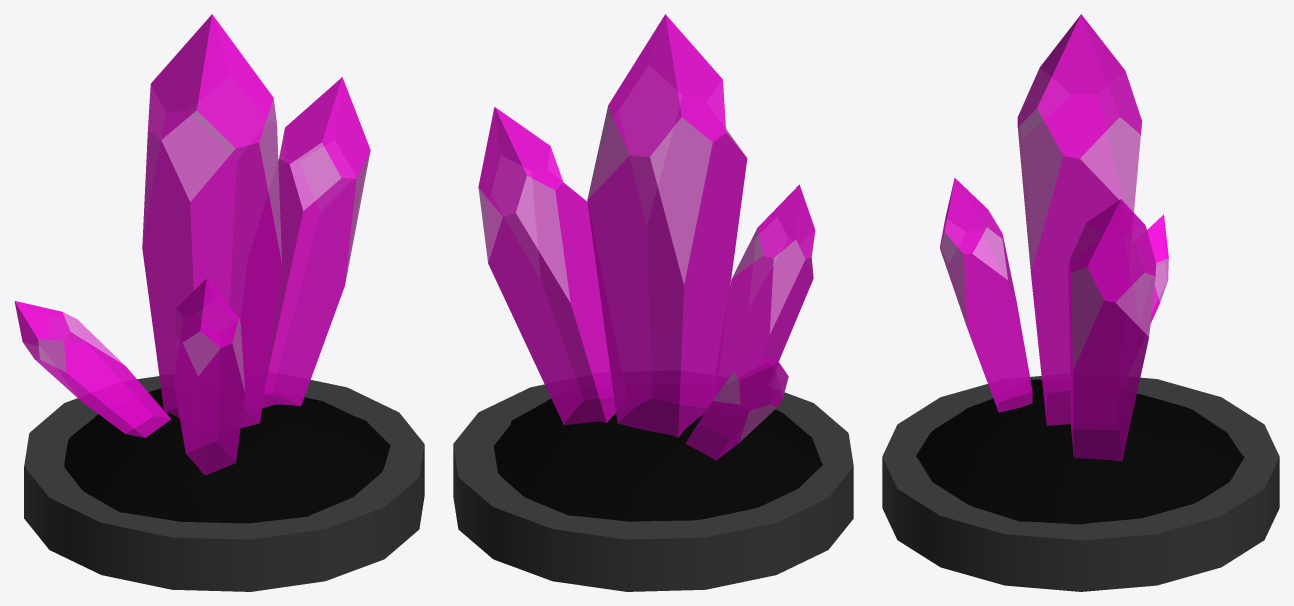
Rendered from Crystal_Pink.fbx.
The picture shows the model from 3 angles, left to right: view 1: azimuth 30°, elevation 25°; view 2: azimuth 150°, elevation 25°; view 3: azimuth 270°, elevation 25°; orthographic projection.
Visible parts, largest first — view 1: Crystal_Pink; view 2: Crystal_Pink; view 3: Crystal_Pink.
Part boxes in pixels (bbox=[...]): Crystal_Pink: bbox=[14, 14, 424, 591]; Crystal_Pink: bbox=[453, 14, 853, 591]; Crystal_Pink: bbox=[882, 14, 1279, 591].
Bounding box in the file's own units: 0.2472 × 0.3351 × 0.2472.
